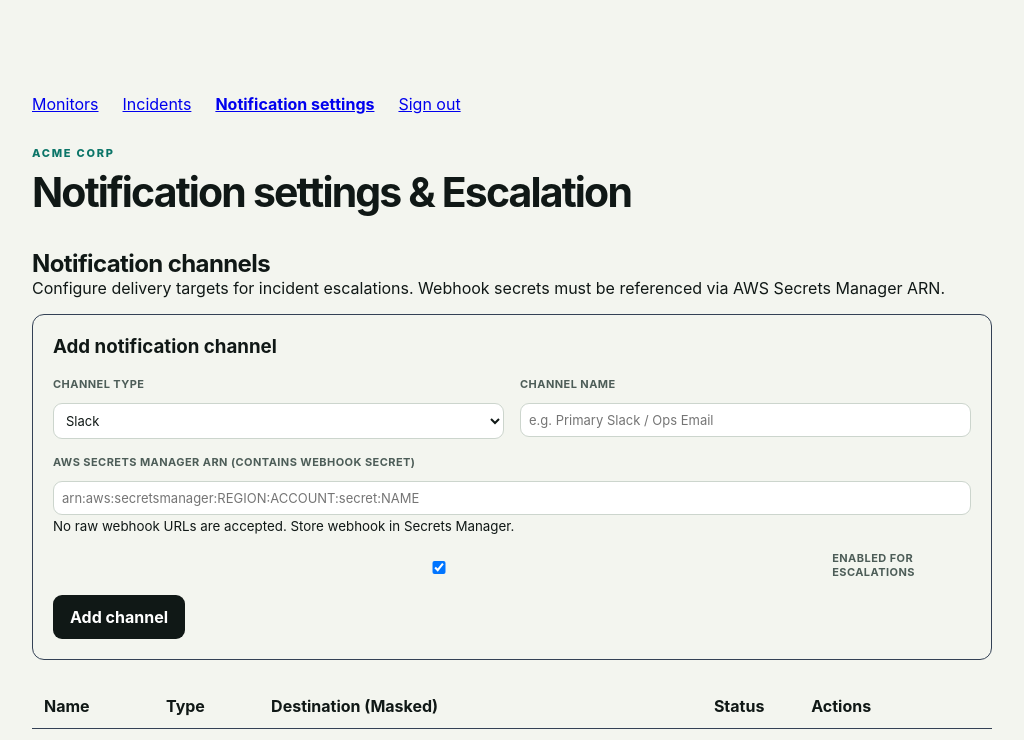
Test: NotificationSettingsPage › validates that Slack requires AWS Secrets Manager ARN and Email requires valid format
Expected: the element with test id "create-channel-form" is shown, [32, 314, 992, 660]
Type "Invalid Slack" into the field labelled "Channel name" at (746, 420), box [520, 403, 971, 437]
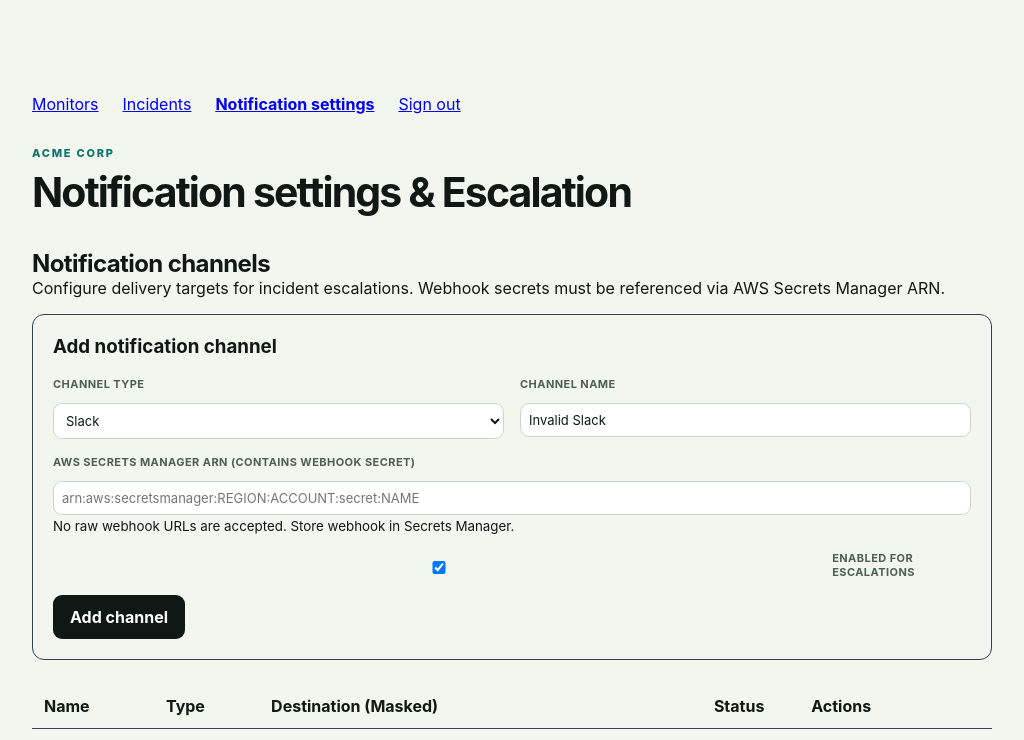
Type "https://hooks.slack.com/services/xxx" into the field labelled "AWS Secrets Manager ARN (contains webhook secret)" at (512, 498), box [53, 481, 971, 515]
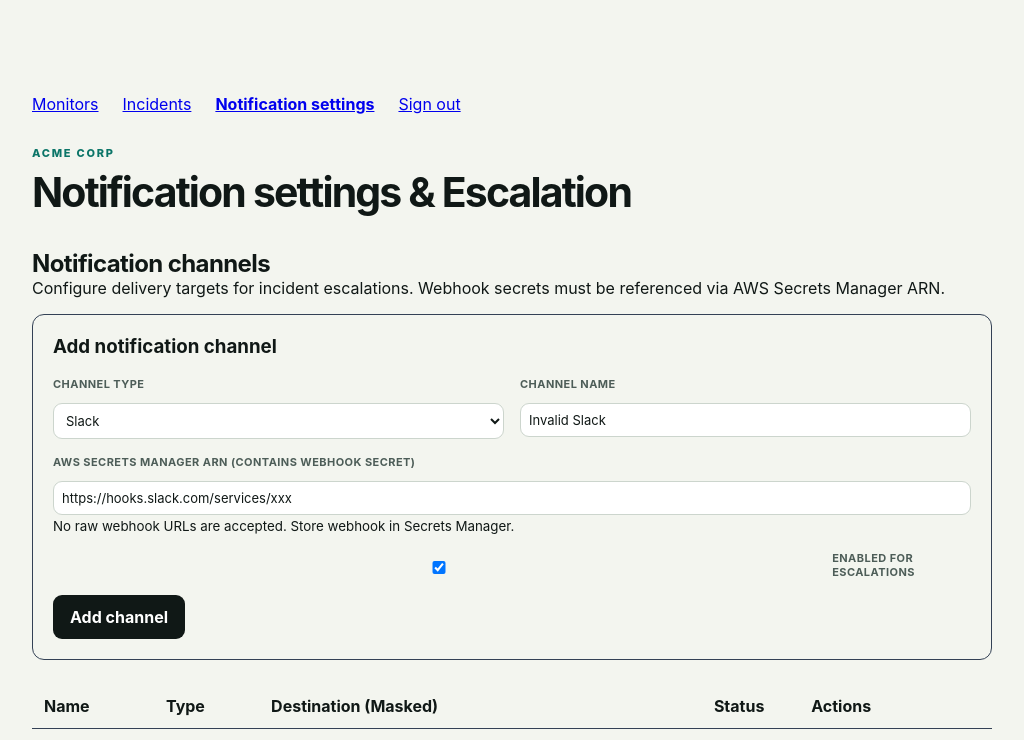
Click the button "Add channel" at (119, 617), box [53, 595, 185, 639]
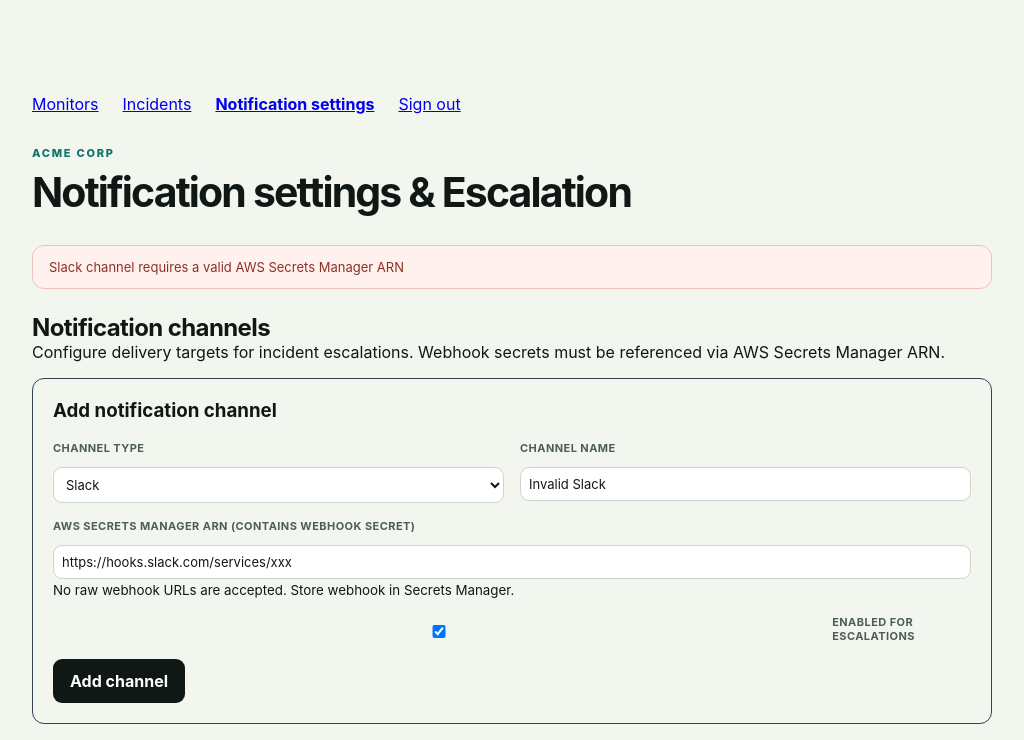
Now the text "Slack channel requires a valid AWS Secrets Manager ARN" is shown, box [32, 245, 992, 289]
Note: Switch to Email
Select "Email" in the dropdown labelled "Channel type" at (278, 485), box [53, 467, 504, 503]
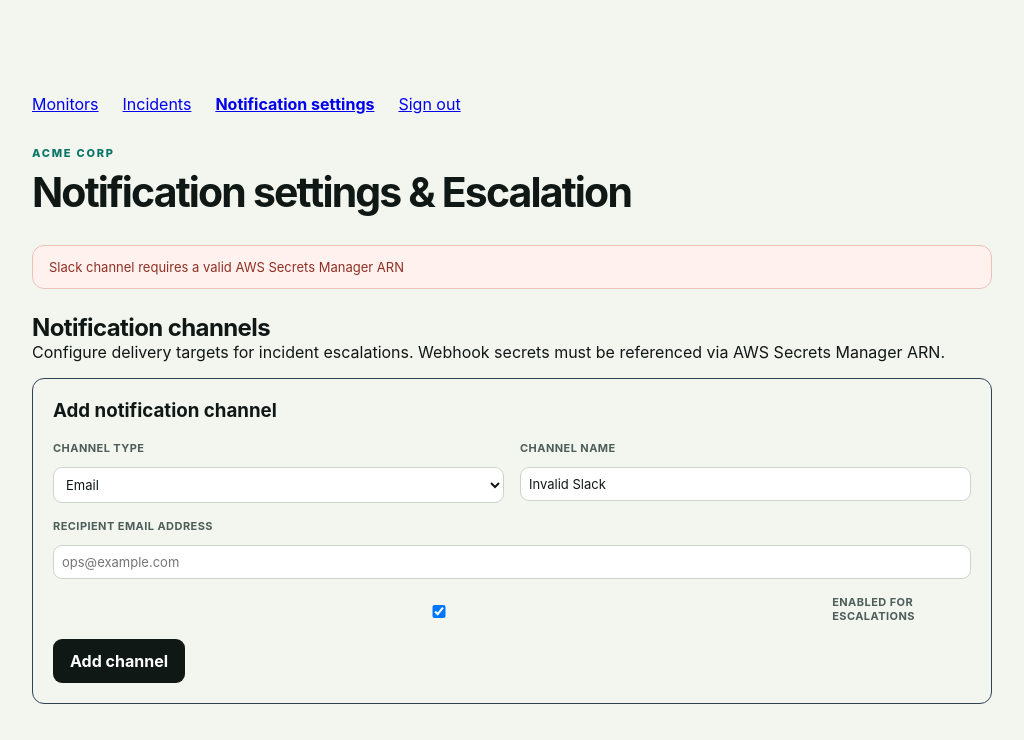
Type "not-an-email" into the field labelled "Recipient email address" at (512, 562), box [53, 545, 971, 579]
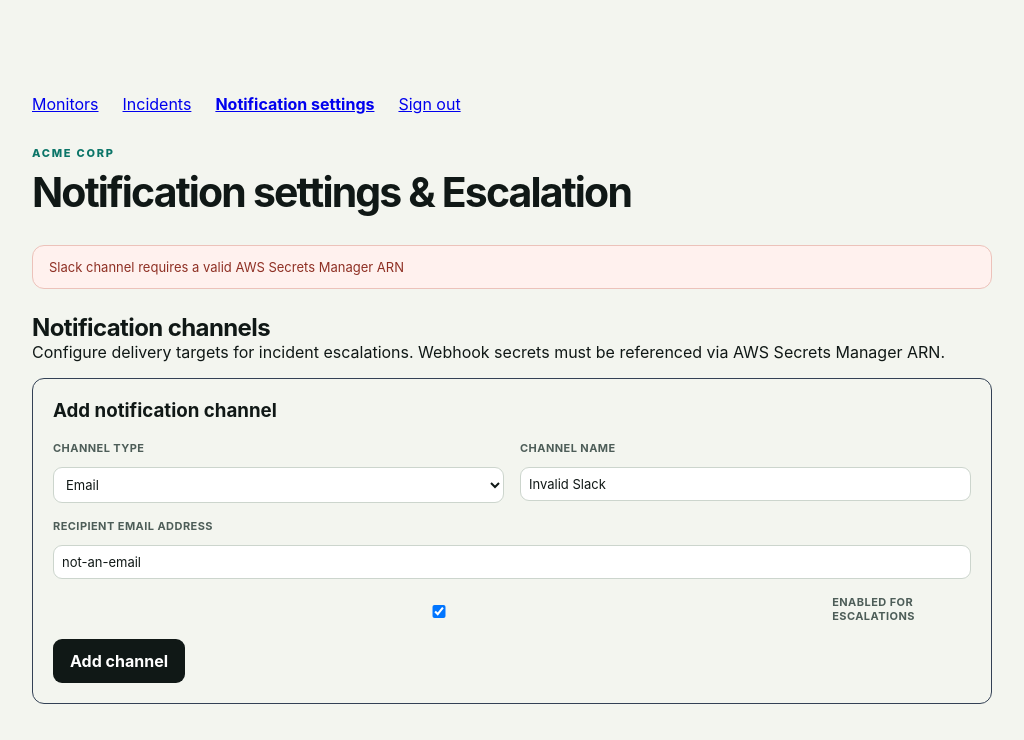
Click the button "Add channel" at (119, 661), box [53, 639, 185, 683]
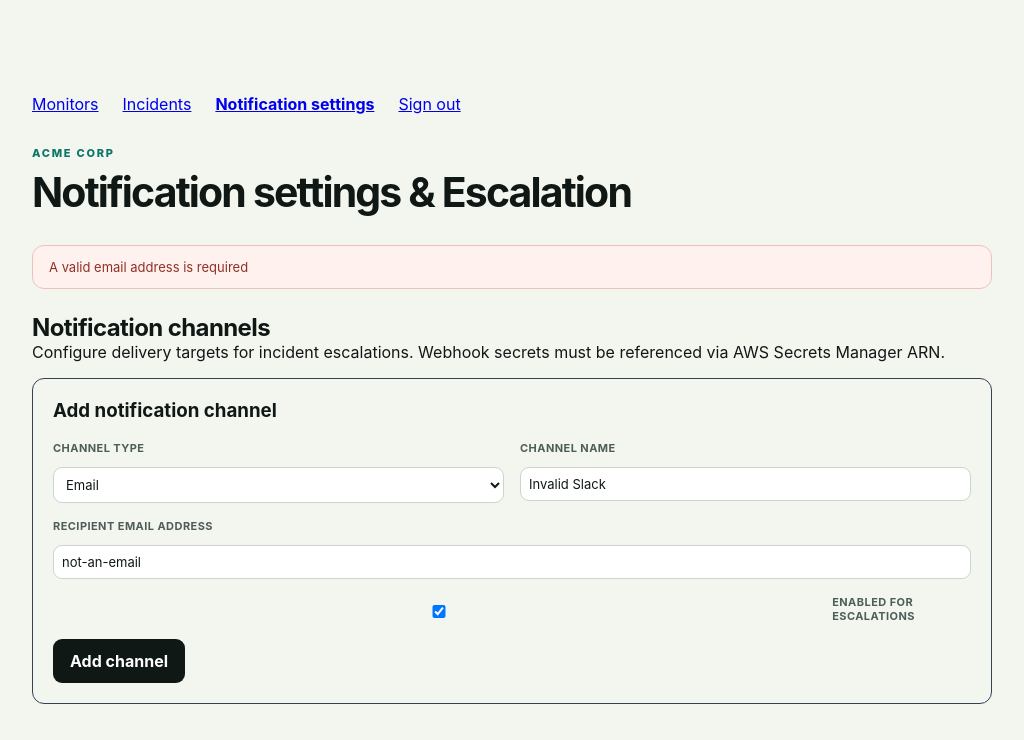
Now the text "A valid email address is required" is shown, box [32, 245, 992, 289]
